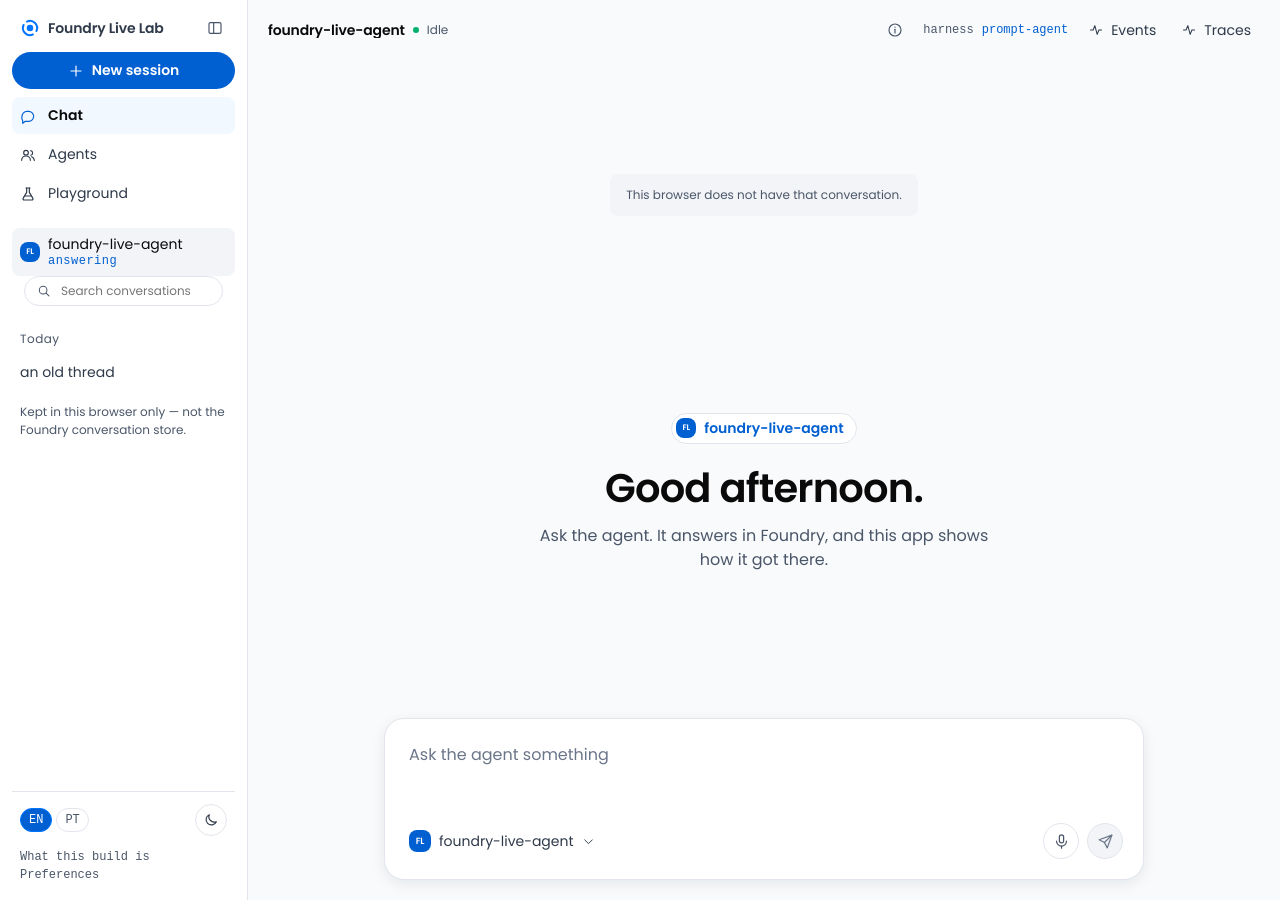
Test: history (AC16, AC17) › refuses to continue a conversation whose agent the project no longer offers (AC18)
The width and height of the screenshot is (1280, 900).
Click the button "an old thread" at (98, 373), box [12,354,183,391]
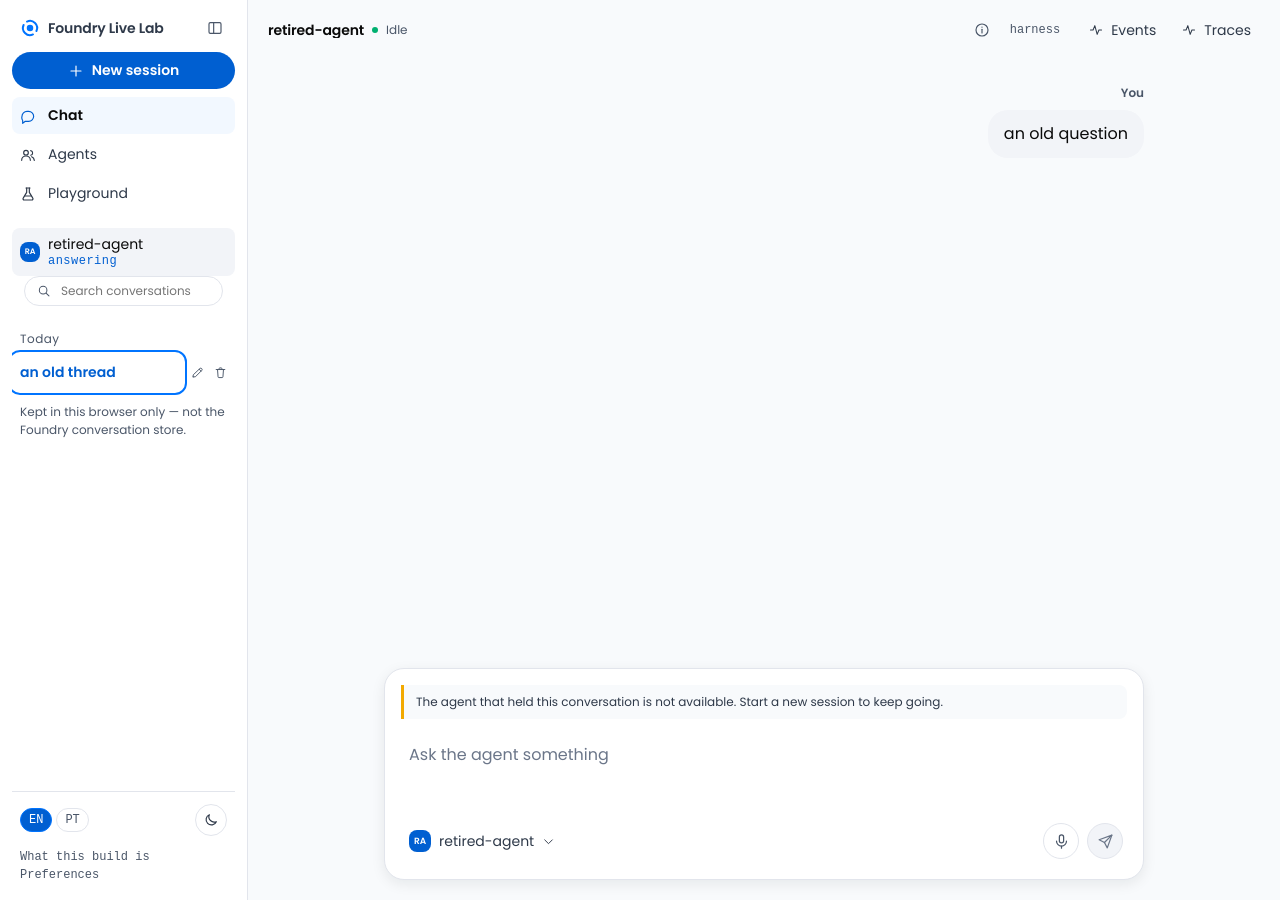
Expected: the text box labelled "Ask the agent something" is disabled, [401,735,1127,815]
Now the text "an old question" is shown, box [988,110,1144,158]
Now the text "The agent that held this conversation is not available. Start a new session to keep going." is shown, box [416,693,943,710]
